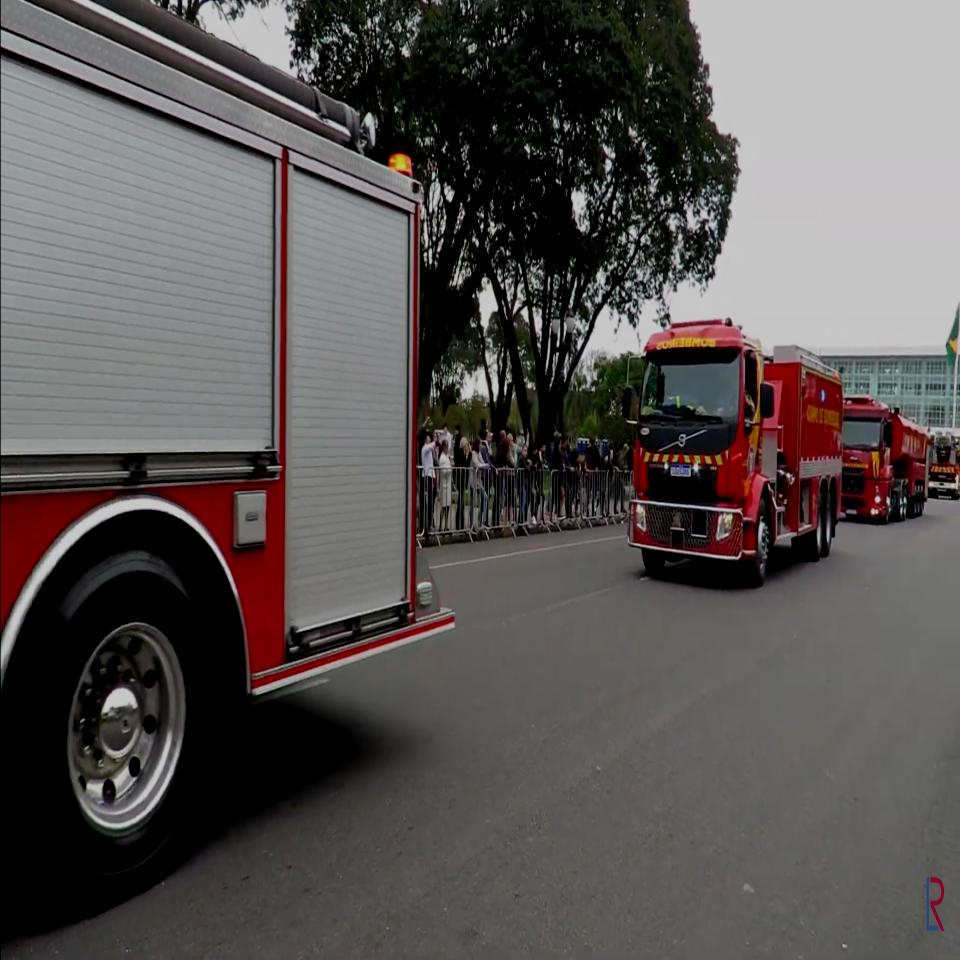bombeiro: (621, 315, 844, 585), (843, 394, 930, 526)
